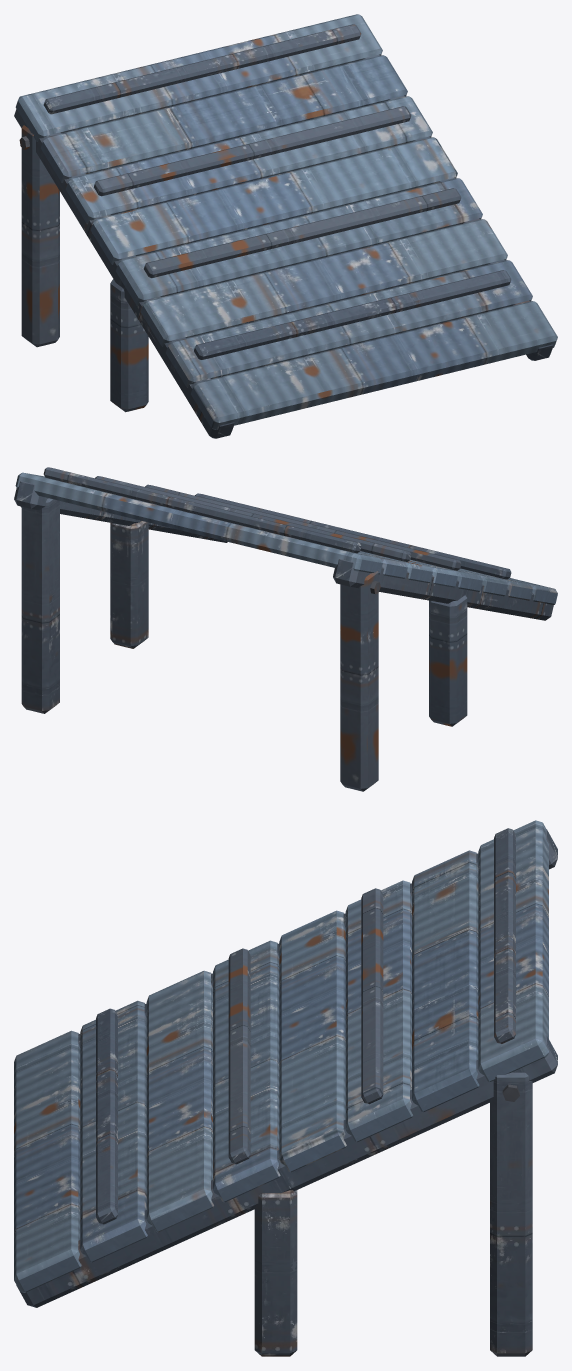
The model's file is rampa.glb.
3 renders of one model, top to bottom at view 1: azimuth 30°, elevation 25°; view 2: azimuth 150°, elevation 25°; view 3: azimuth 270°, elevation 25°, orthographic. The views are drawn at different scales.
Parts seen in each view (by area): view 1: rampa; view 2: rampa; view 3: rampa.
Part boxes in pixels (<box>): rampa: <box>14,14,557,438</box>; rampa: <box>14,467,557,791</box>; rampa: <box>14,820,557,1356</box>.
Bounding box in the file's own units: 3.07 × 2 × 3.08.
Materials: 1 (1 with a texture image).
